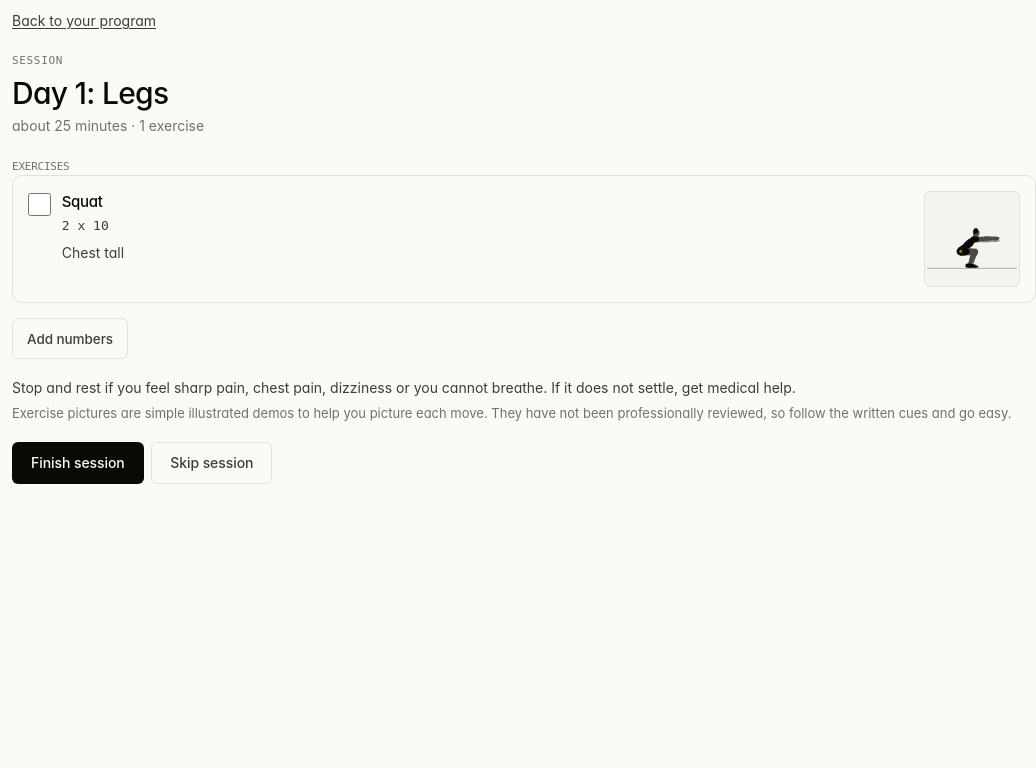
Test: StarterSession › asks before skipping
The image size is (1036, 768).
Click the button "Skip session": (212, 462) top-left (151, 442), bottom-right (272, 484)
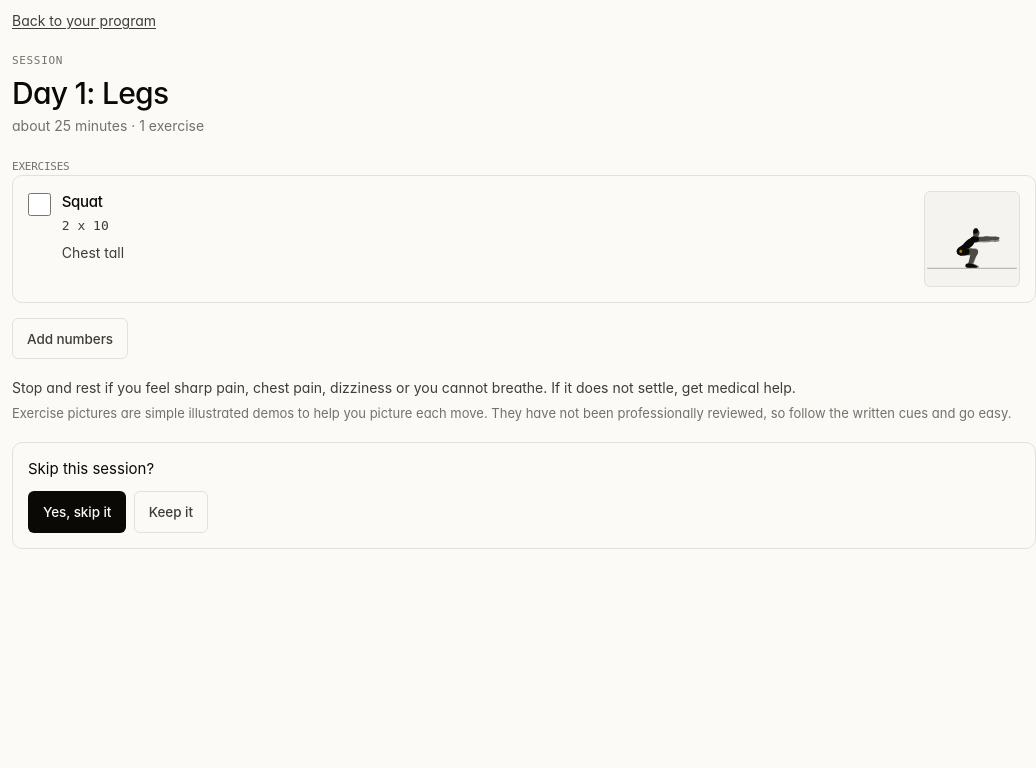
Click the button "Yes, skip it": (77, 512) top-left (28, 491), bottom-right (126, 533)
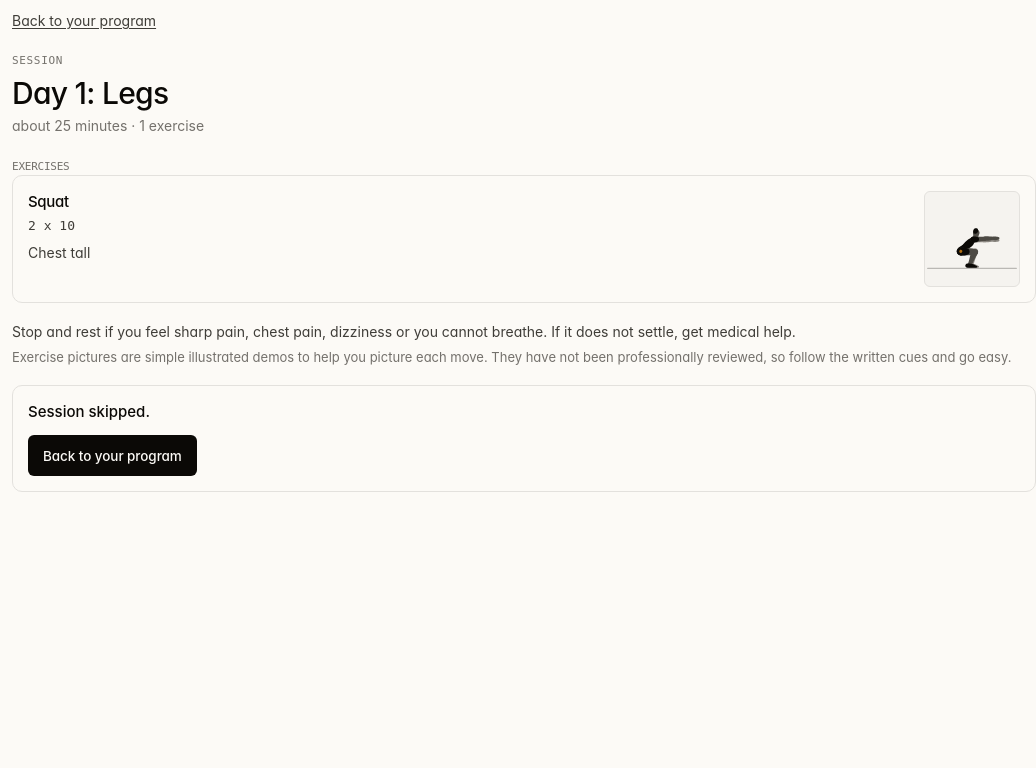
Check: the text "Session skipped." is shown, box top-left (28, 402), bottom-right (150, 421)
